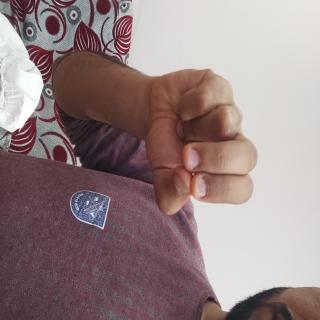QAAF: (41, 78, 172, 251)
